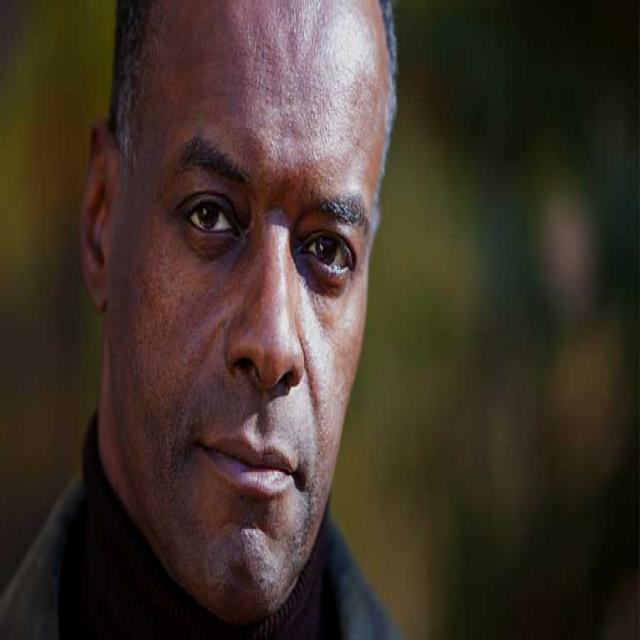stroke_face: (98, 80, 370, 599)
